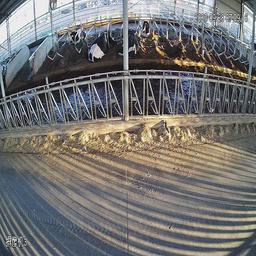cow: (90, 31, 116, 62), (66, 25, 86, 46), (138, 15, 152, 37)
